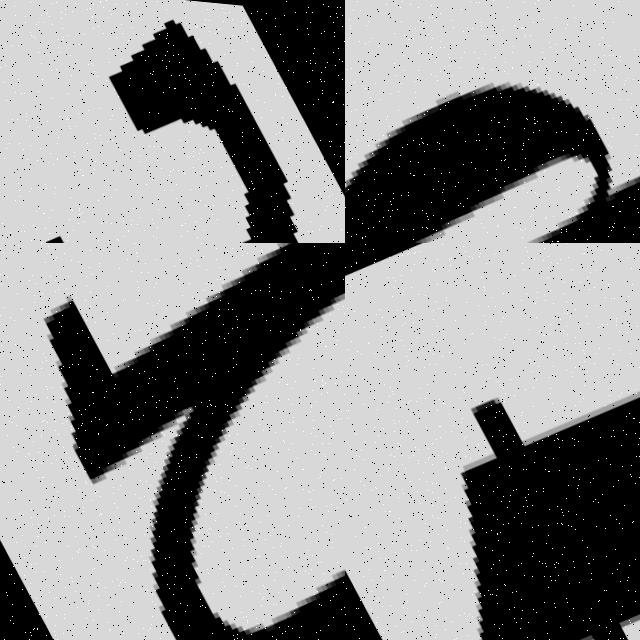3: (0, 0, 345, 243)
N: (0, 243, 345, 640)
Q: (345, 0, 640, 243)
T: (345, 243, 640, 640)
